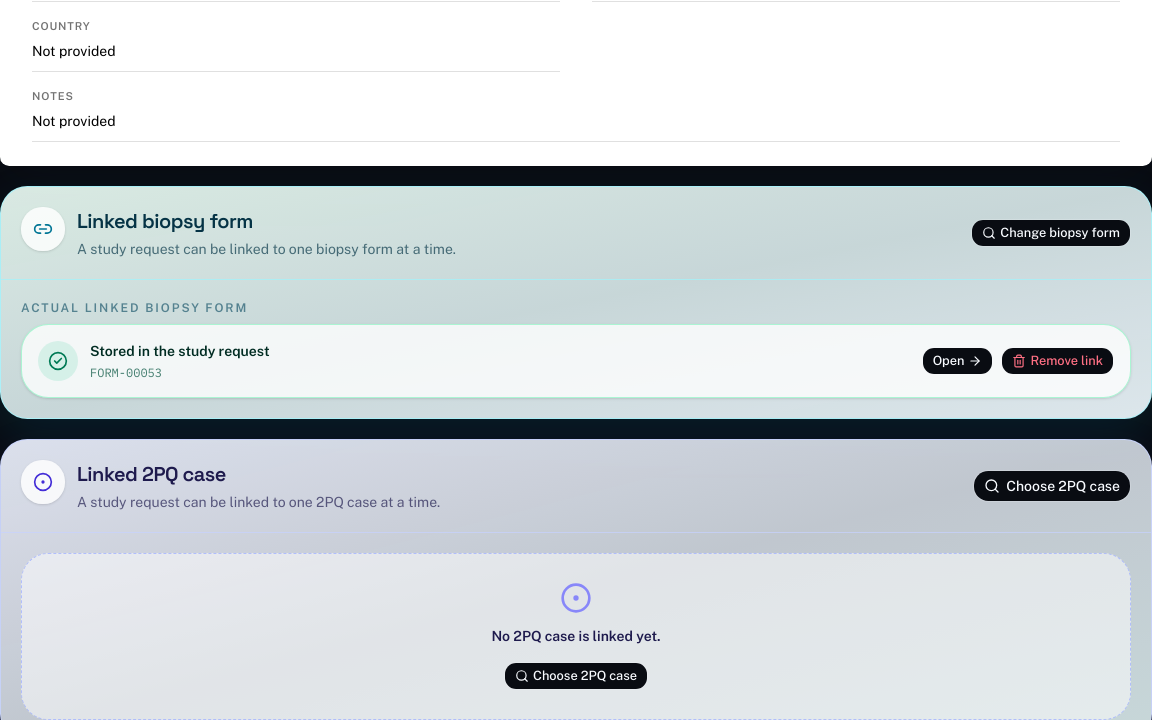
TwoPQFormDetail › shows the single linked biopsy form and can remove the bidirectional link
(page scrolled)
Expected: the heading "Linked biopsy form" is shown, [77, 208, 253, 234]
Expected: the text "FORM-00053" is shown, [90, 365, 162, 380]
Click the button "Remove link" at (1058, 361), box [1001, 347, 1114, 375]
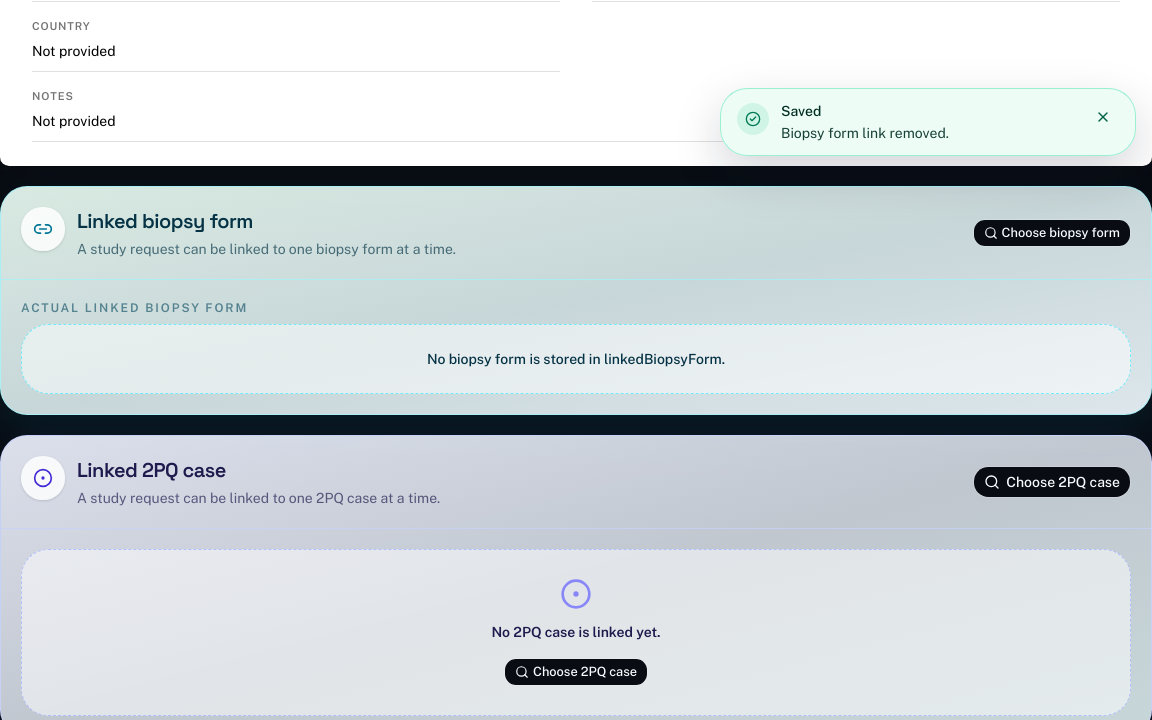
Expected: the text "No biopsy form is stored in linkedBiopsyForm." is shown, [427, 351, 725, 367]
